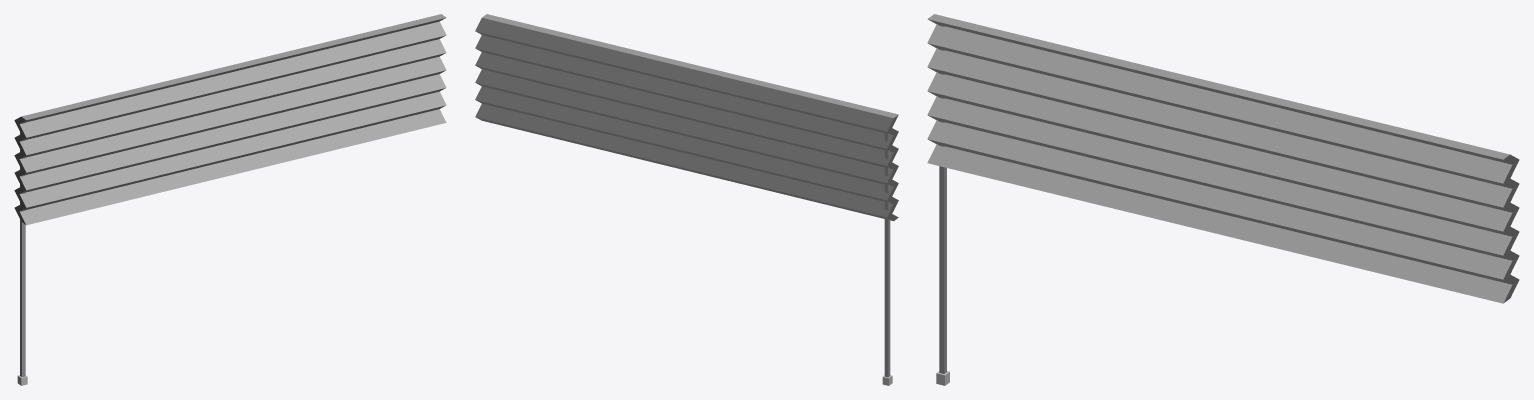
Rendered from SO_WindowBlinds_Large.fbx.
3 views of the same model, side by side, from view 1: azimuth 30°, elevation 25°; view 2: azimuth 150°, elevation 25°; view 3: azimuth 330°, elevation 25° (orthographic). The views are drawn at different scales.
Visible parts, largest first — view 1: SO_WindowBlinds_Large; view 2: SO_WindowBlinds_Large; view 3: SO_WindowBlinds_Large.
Boxes of the visible parts, x1,y1,x2,y2 form: SO_WindowBlinds_Large: (14,14,446,385); SO_WindowBlinds_Large: (475,14,898,385); SO_WindowBlinds_Large: (927,14,1519,385).
Bounding box in the file's own units: 4.68 × 2.88 × 0.232.
